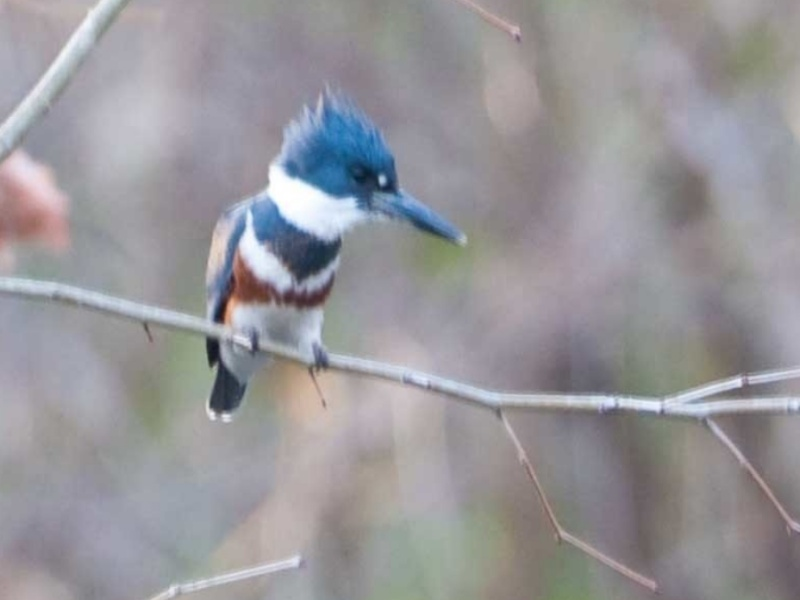kingfisher: (194, 77, 476, 433)
